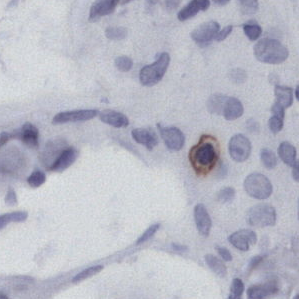Lymphocyte: (189, 137, 222, 173)
